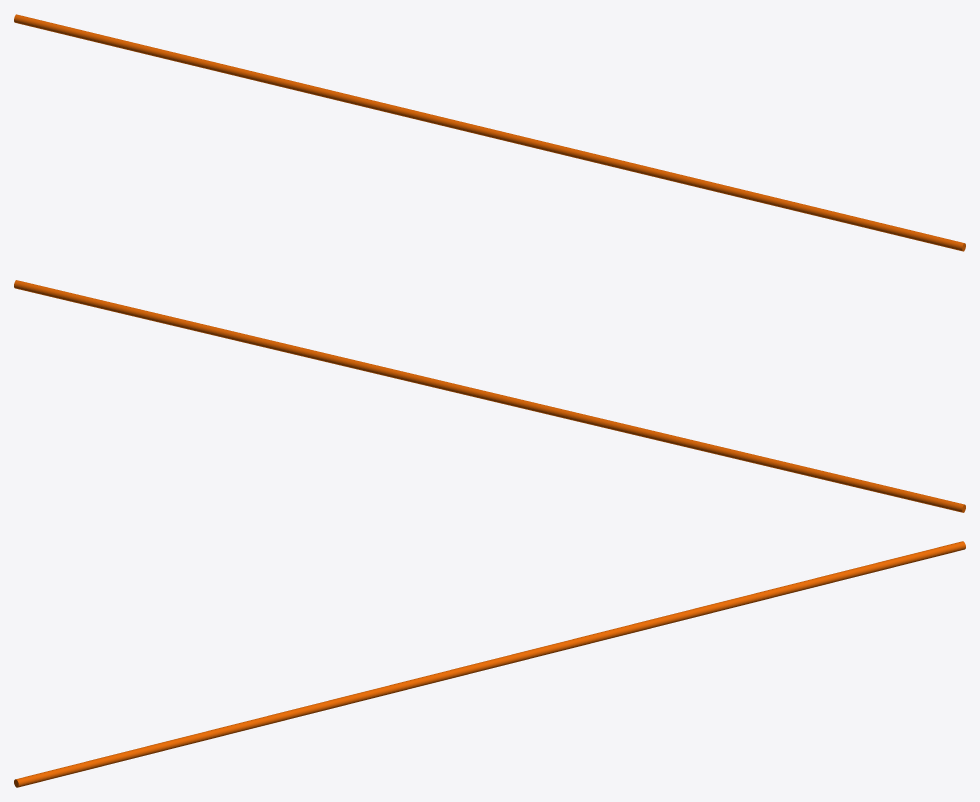
The picture shows the model from 3 angles, top to bottom: view 1: azimuth 30°, elevation 25°; view 2: azimuth 210°, elevation 25°; view 3: azimuth 270°, elevation 25°; orthographic projection.
Visible parts, largest first — view 1: Циліндр.004; view 2: Циліндр.004; view 3: Циліндр.004.
Part boxes in pixels (<box>): Циліндр.004: <box>14,14,965,251</box>; Циліндр.004: <box>14,280,965,512</box>; Циліндр.004: <box>14,541,965,787</box>.
Size of the model in its own units: 7.46 by 0.1456 by 12.57.
